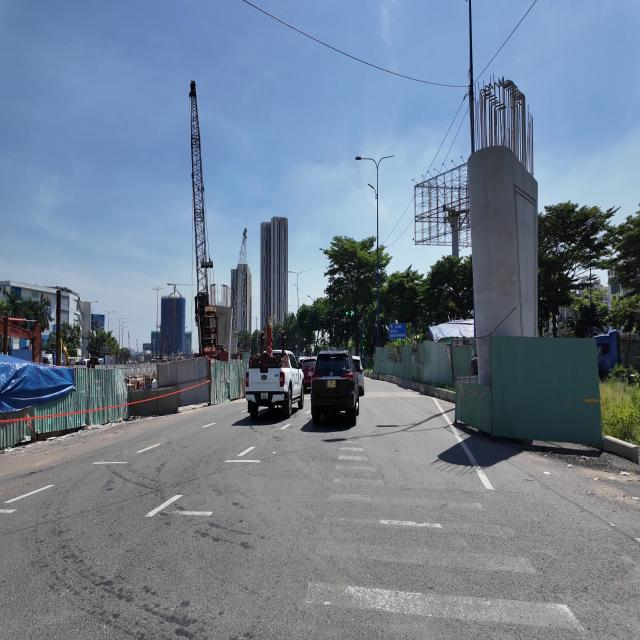car: (246, 351, 304, 418), (311, 352, 359, 425), (299, 357, 316, 391), (353, 356, 364, 396)
